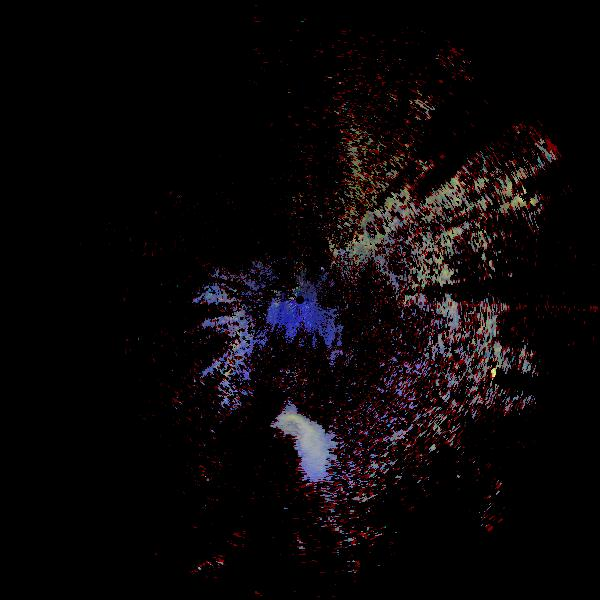roost: (255, 405, 324, 474)
